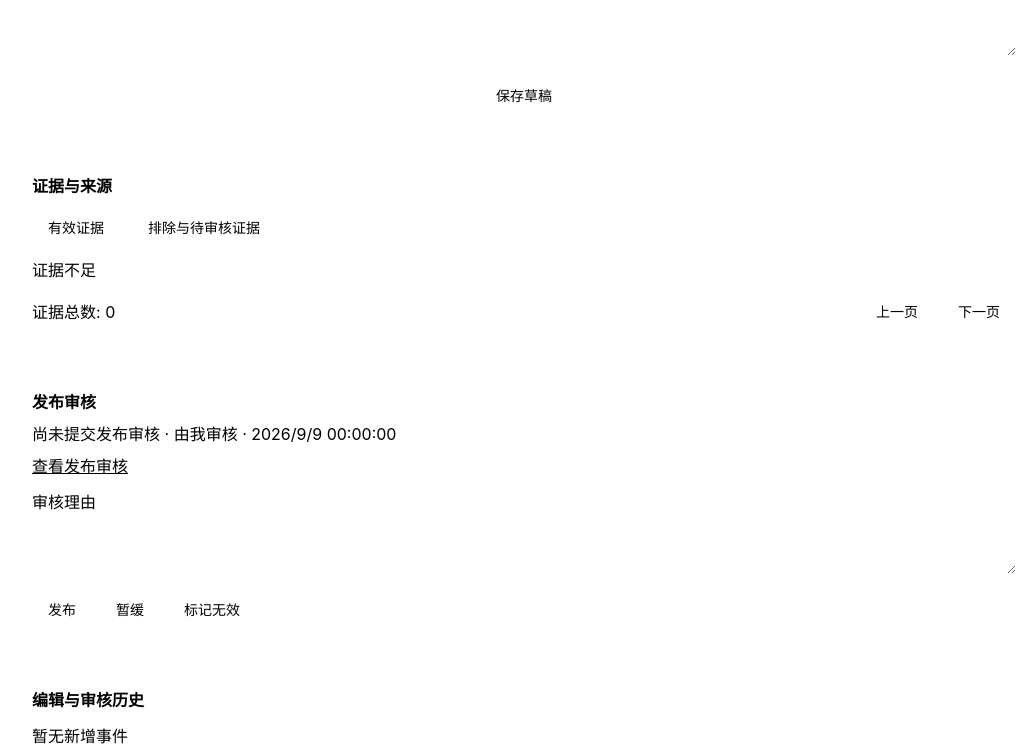
Test: Defer retains non-public candidate
(page scrolled)
Click the button "暂缓": click(130, 610) [100,592,160,628]
(page scrolled)
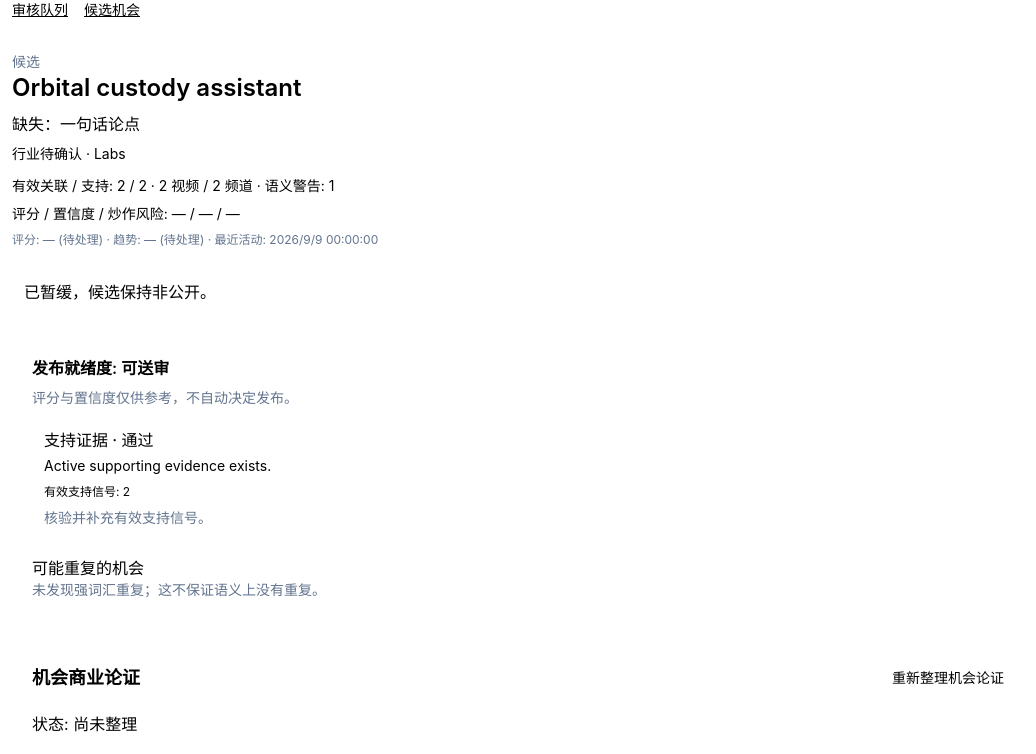
Check: the text "已暂缓，候选保持非公开。" is shown, box [24,282,216,302]
